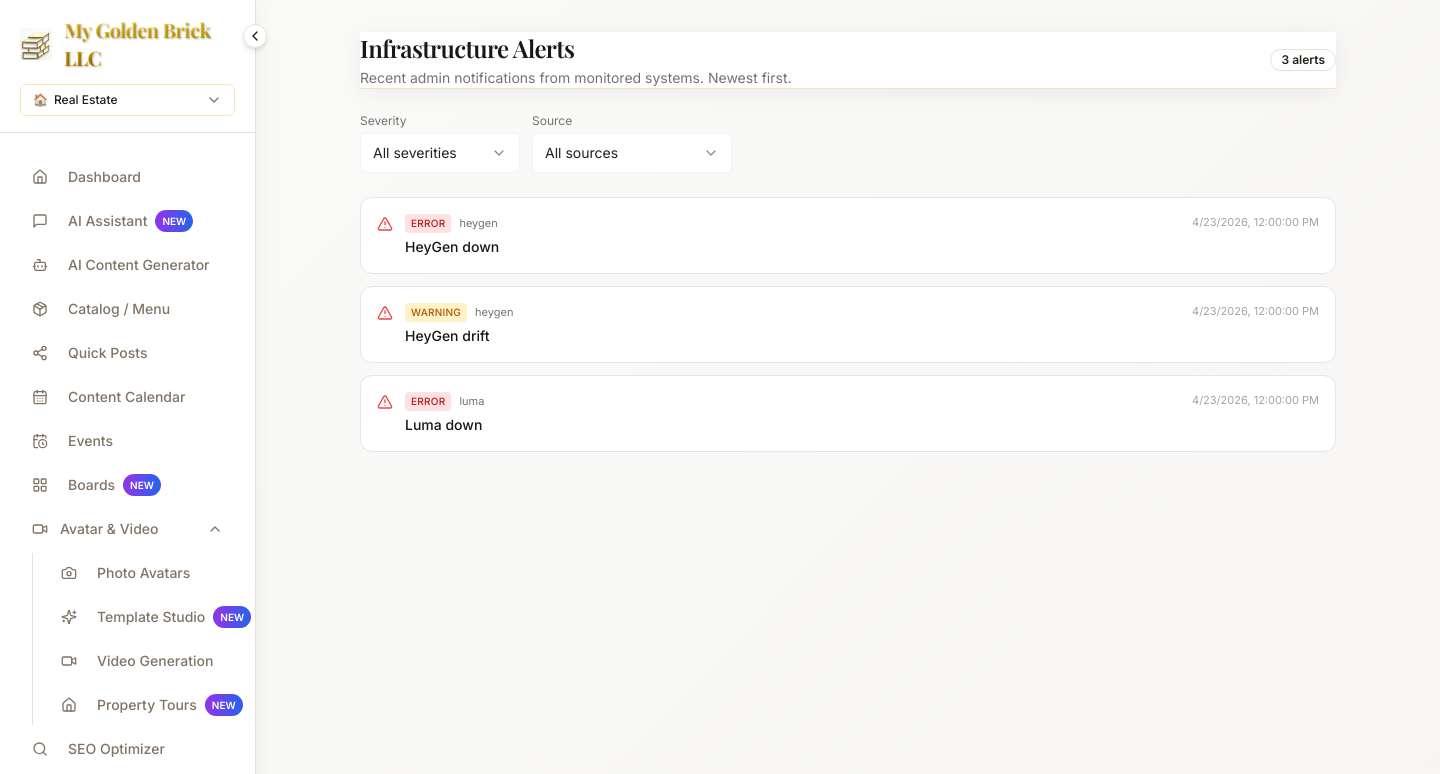
Test: AdminAlertsPage › filters alerts by severity and source
The image size is (1440, 774).
expect the list with test id "list-admin-alerts" is shown: met, box [360,197,1336,452]
expect the list item with test id "row-admin-alert-a1" is shown: met, box [360,197,1336,274]
Press Enter in the dropdown with test id "select-admin-alerts-severity", box [360,133,520,173]
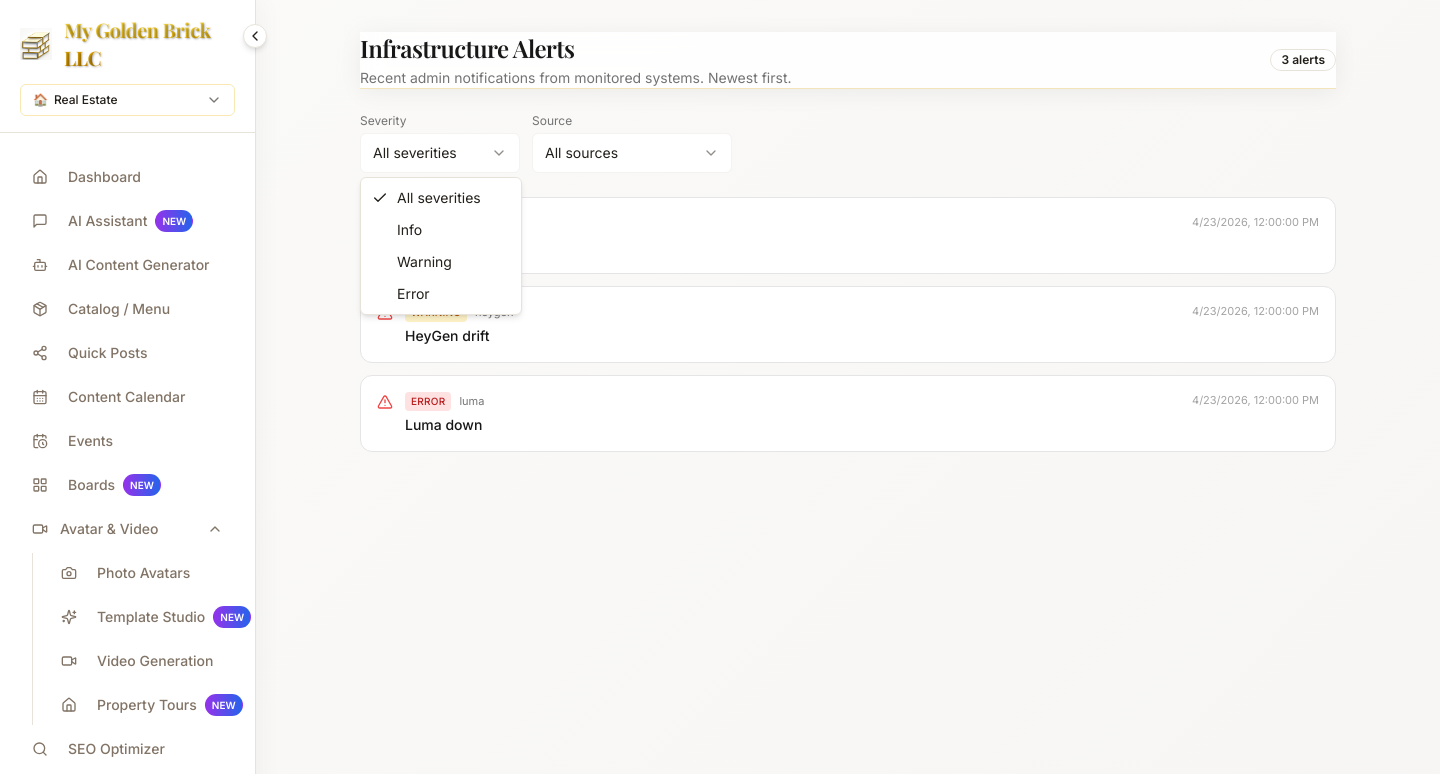
Click the option with test id "option-severity-error" at (413, 294), box [397,285,430,302]
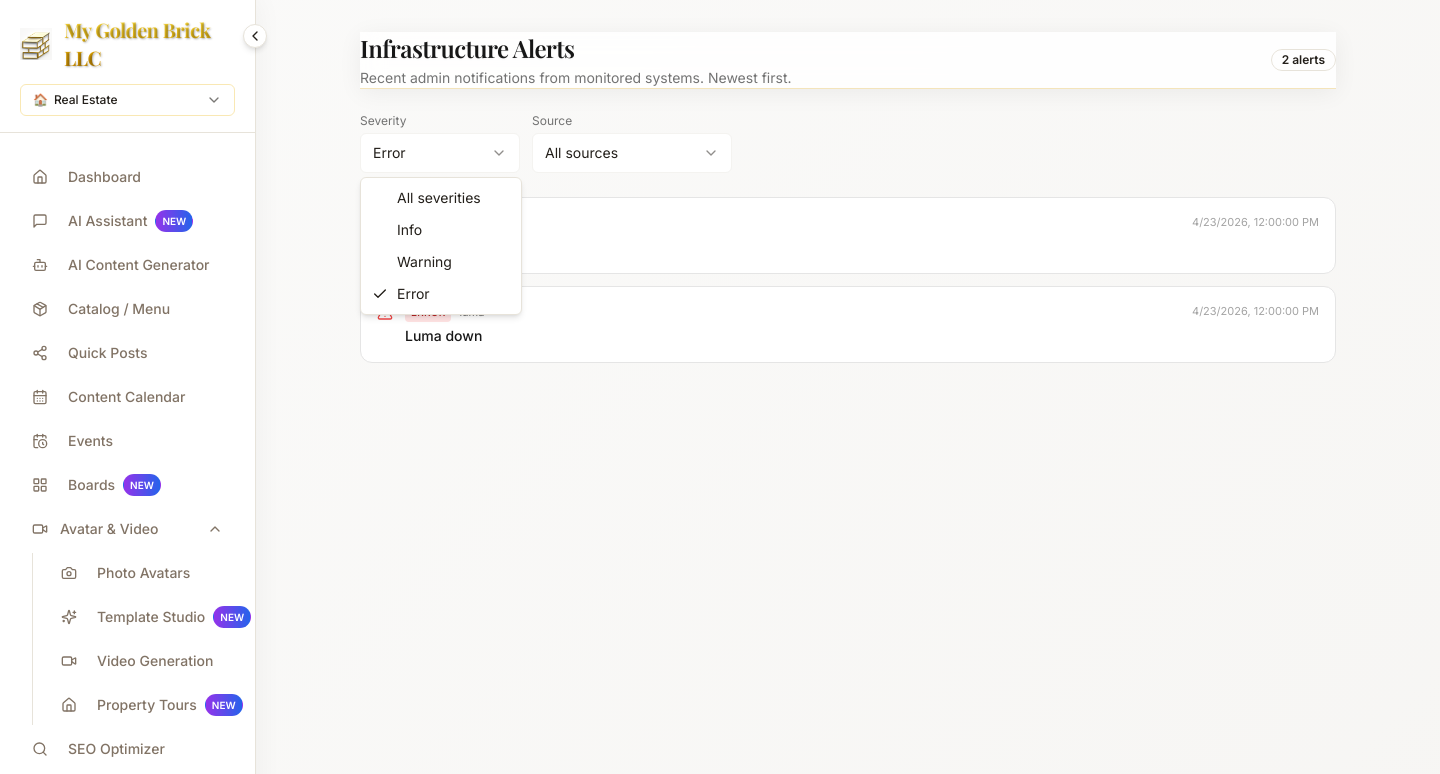
expect the list item with test id "row-admin-alert-a1" is shown: met, box [360,197,1336,274]
expect the list item with test id "row-admin-alert-a2" is gone: met
Press Enter in the dropdown with test id "select-admin-alerts-source", box [532,133,732,173]
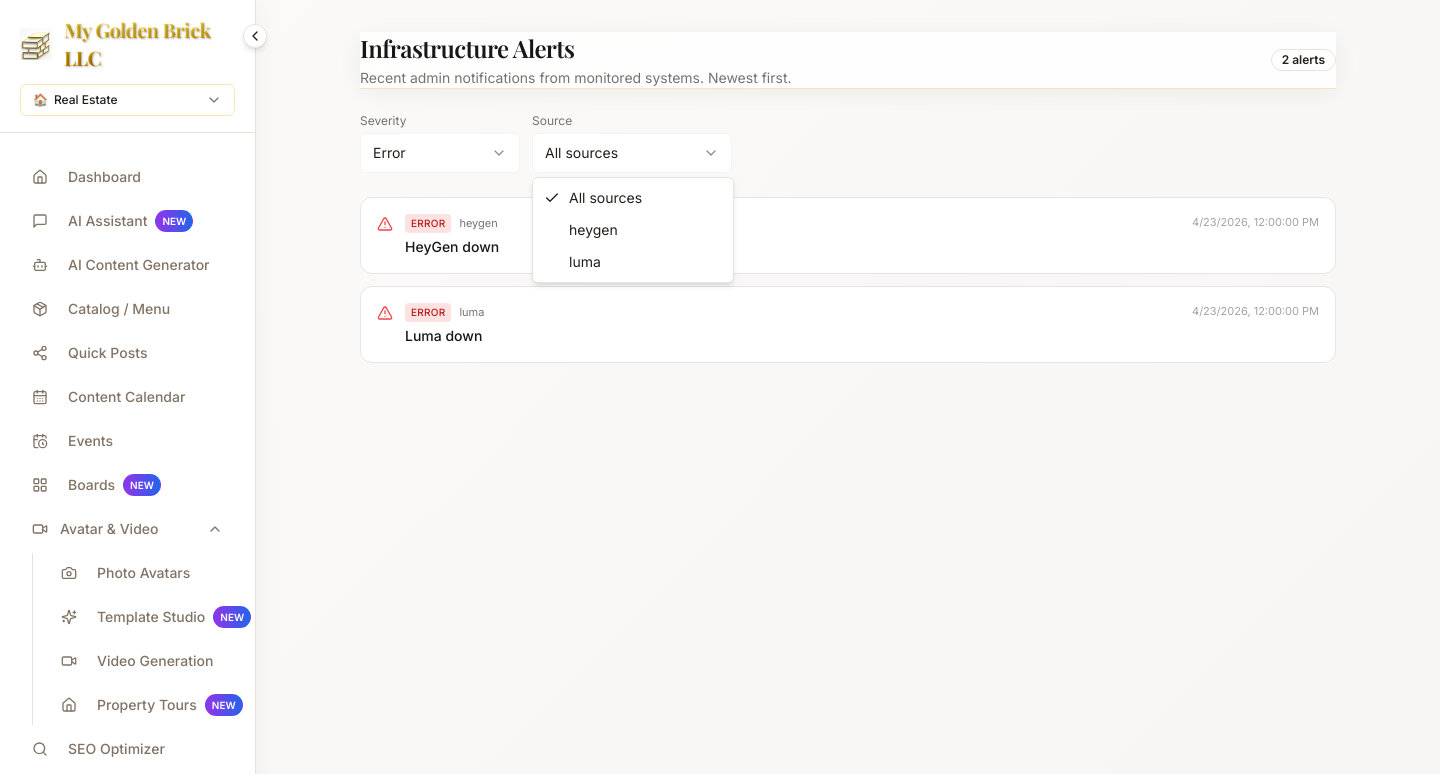
Click the option with test id "option-source-heygen" at (593, 230), box [569,221,618,238]
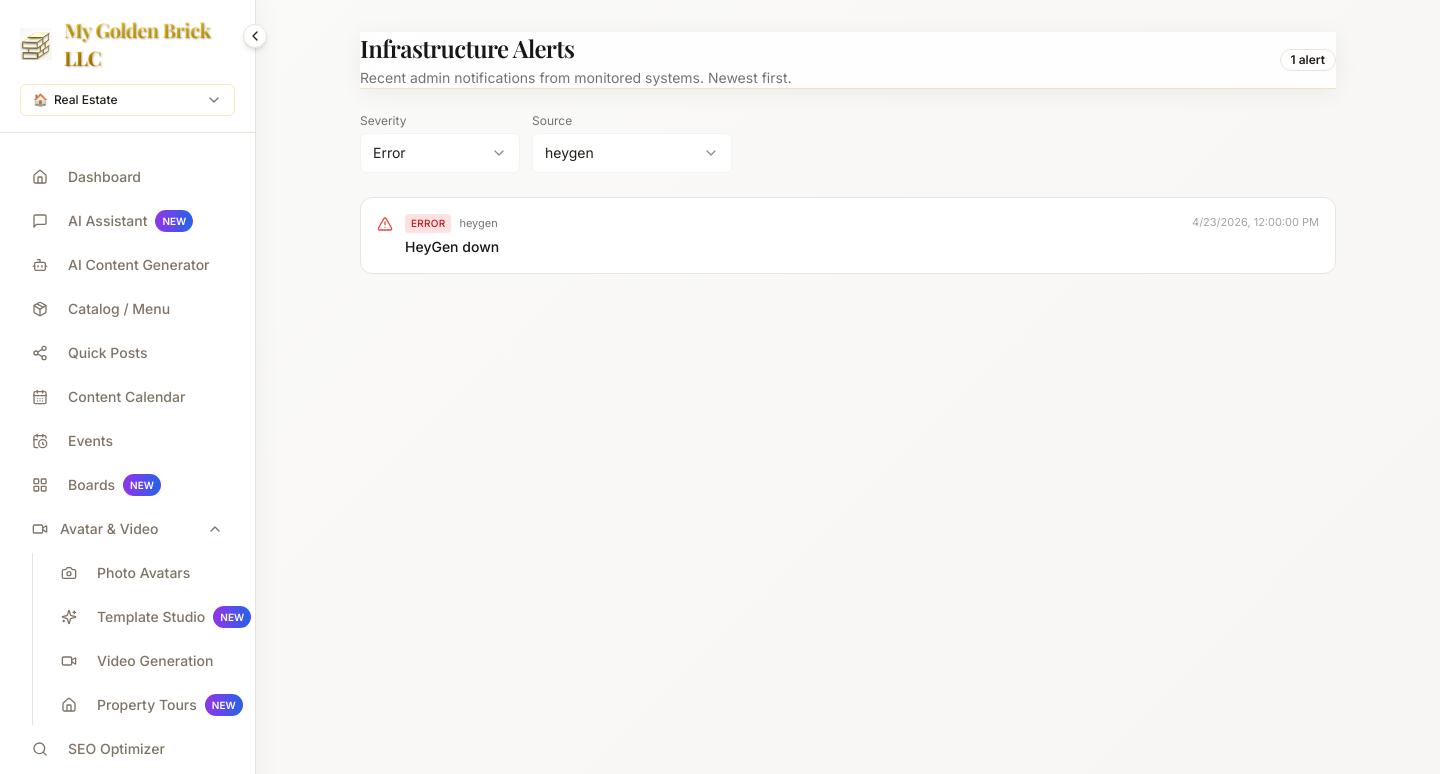
expect the list item with test id "row-admin-alert-a1" is shown: met, box [360,197,1336,274]
expect the list item with test id "row-admin-alert-a3" is gone: met
expect the text with test id "badge-admin-alerts-count" shows "1": met, box [1290,52,1296,67]
